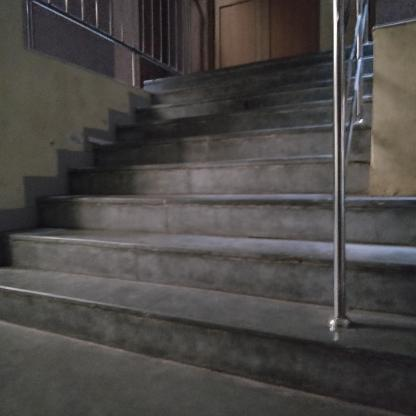stairs: (40, 203, 285, 389)
